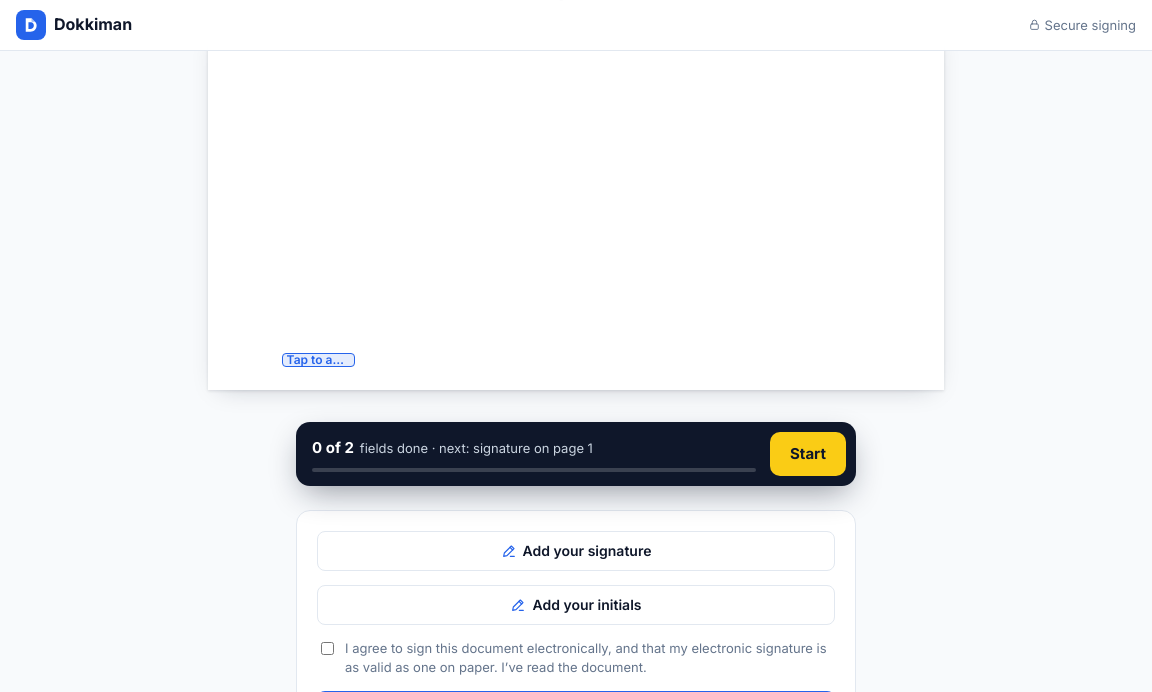
Test case: the signing guide › tapping a field directly makes it the current one
(page scrolled)
Click the button with aria-label "Initials, page 2" at (318, 360), box 282,353 -> 355,367
(page scrolled)
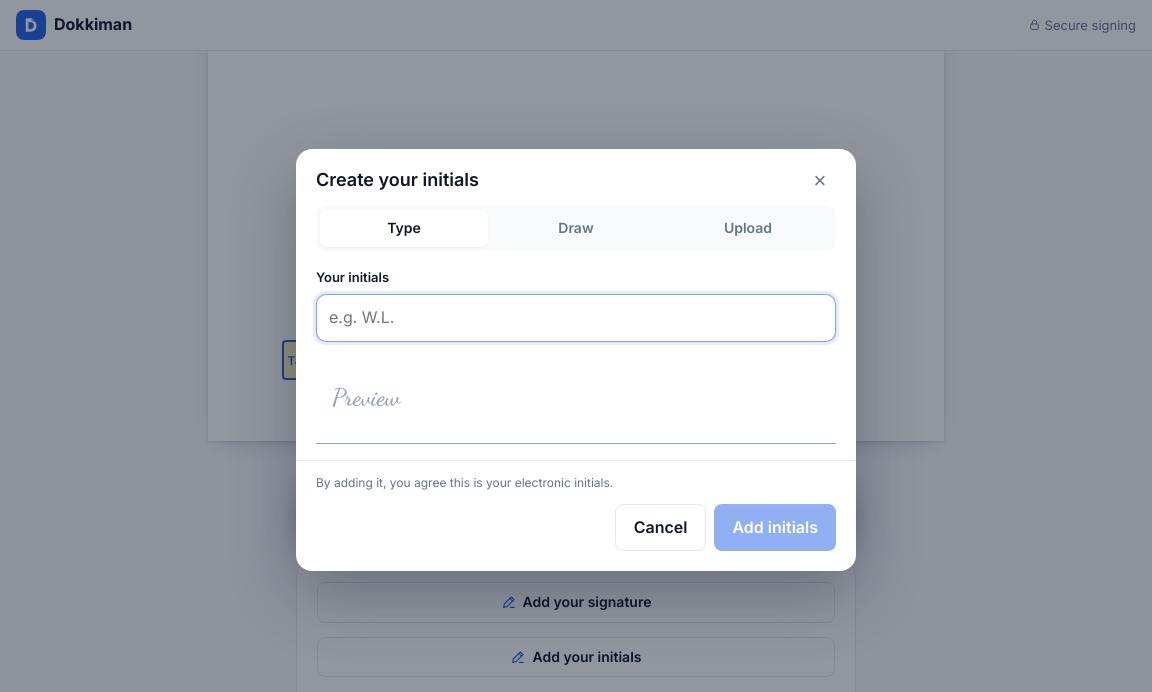
Expected: the dialog is shown, 296,149 -> 856,571
